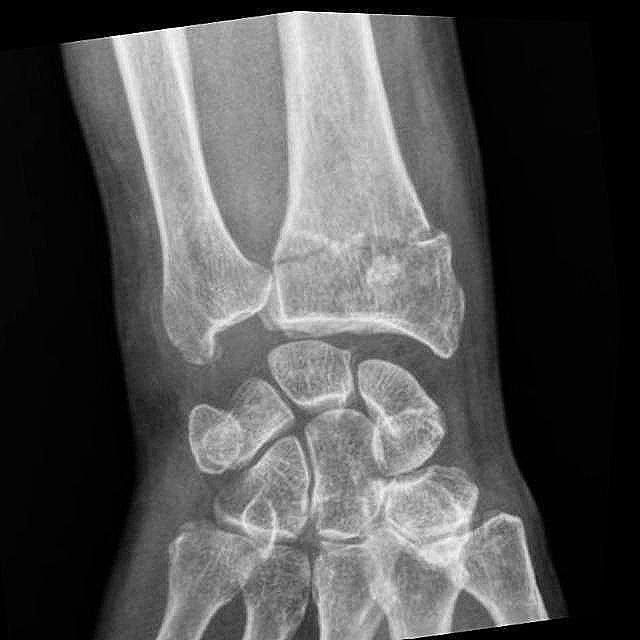bone: (260, 178, 464, 344)
